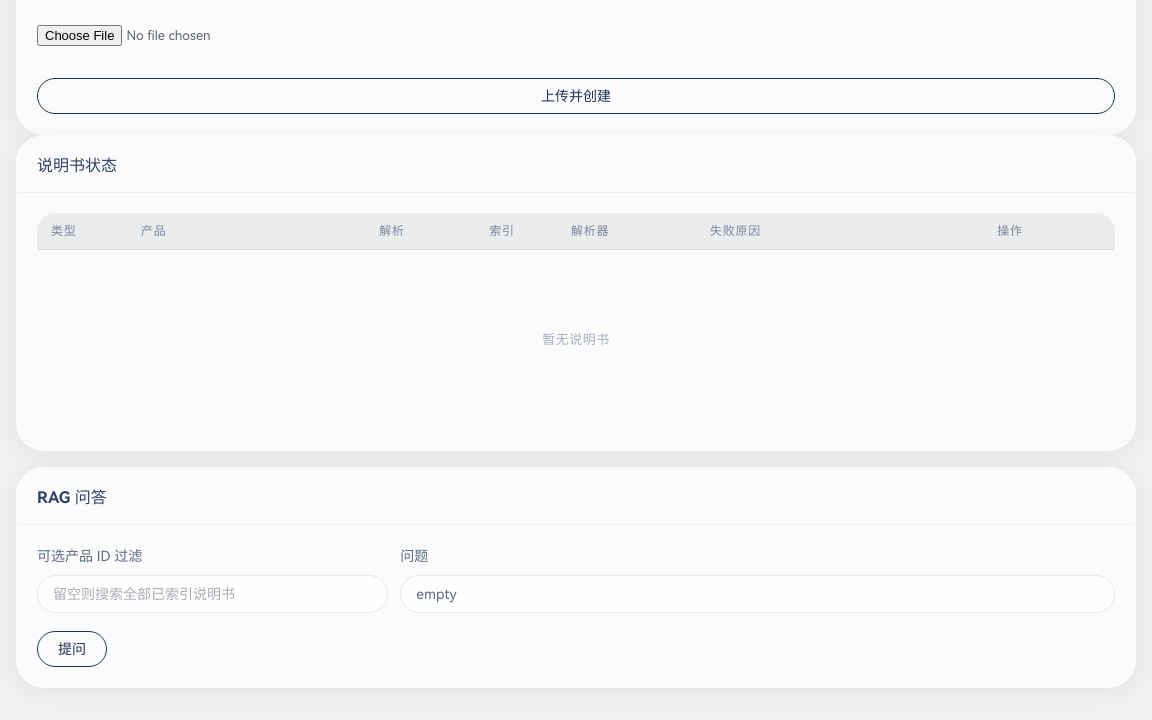
Manuals.vue › RAG sources and insufficient state › shows insufficient state when sources are empty even if insufficient_sources is false
The width and height of the screenshot is (1152, 720).
(page scrolled)
Click the button "提问".
click(72, 649)  # box [37,631,107,667]
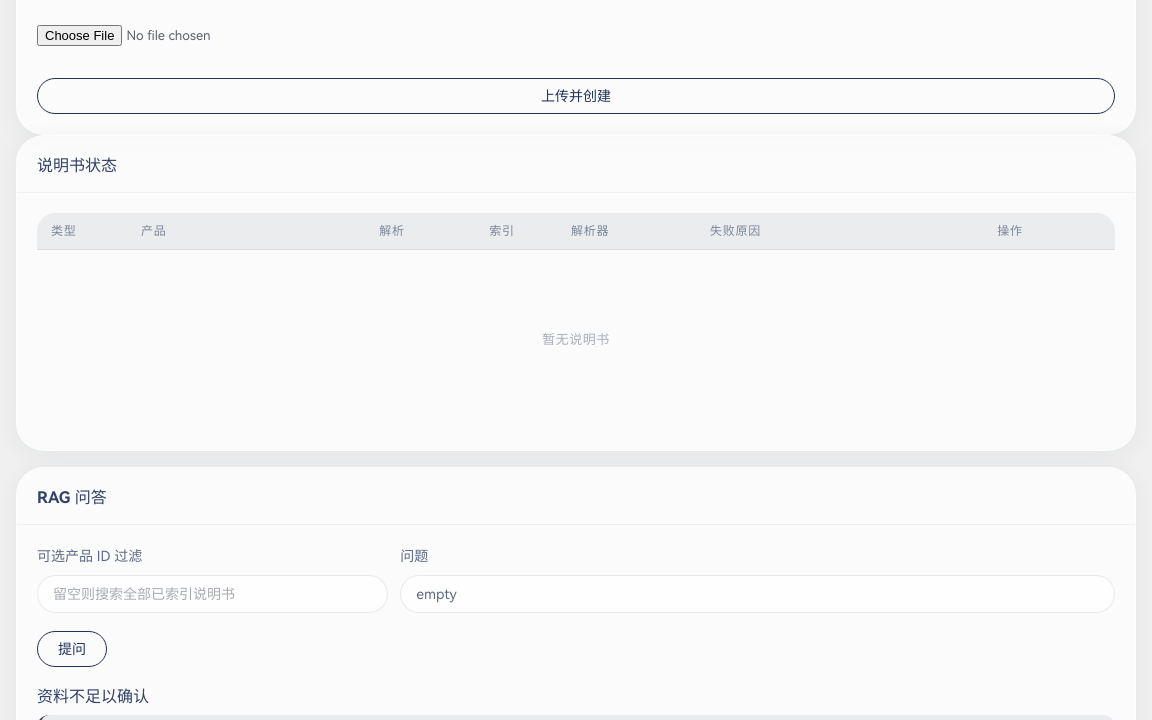
Expected: the text "资料不足以确认" is shown, [37,687,149,706]
